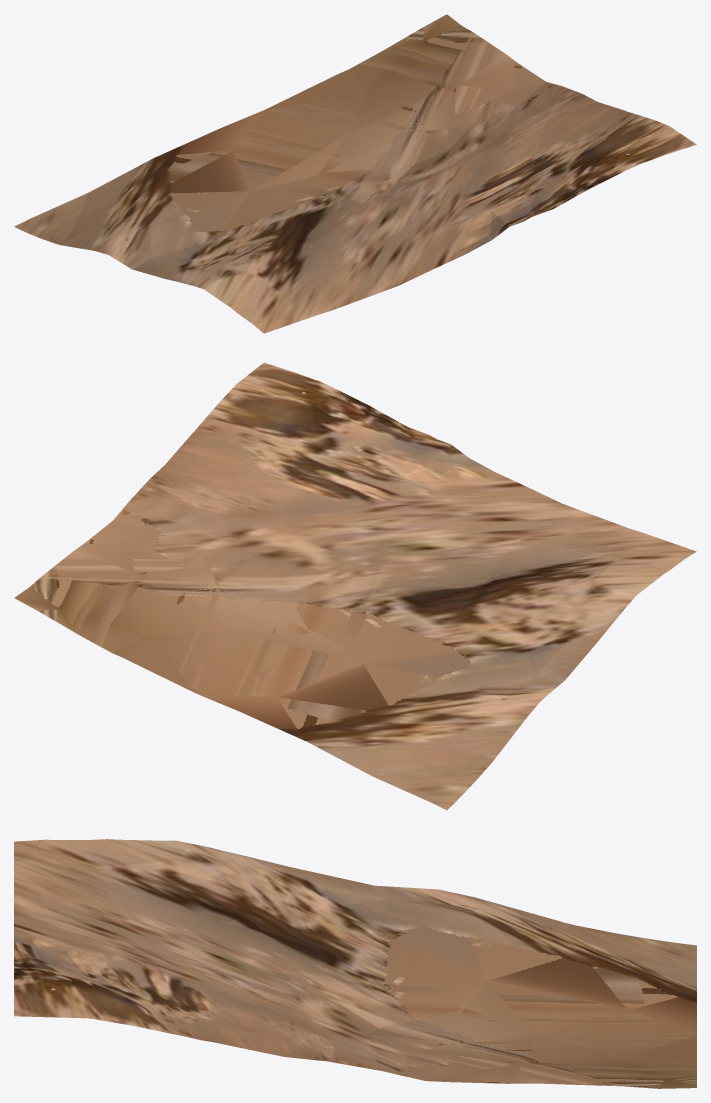
3 views of the same model, one above another, from view 1: azimuth 30°, elevation 25°; view 2: azimuth 150°, elevation 25°; view 3: azimuth 270°, elevation 25° (orthographic). The views are drawn at different scales.
Bounding box in the file's own units: 1.04 × 0.3674 × 1.04.
Materials: 3 (3 with a texture image).
